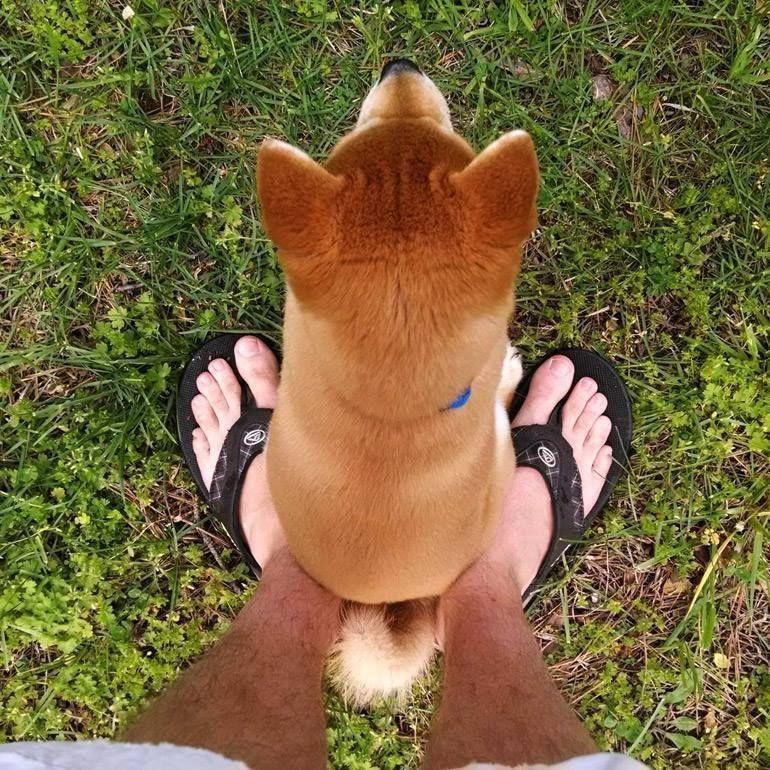non-dog: (116, 330, 634, 770)
puppy-dog: (248, 56, 547, 713)
